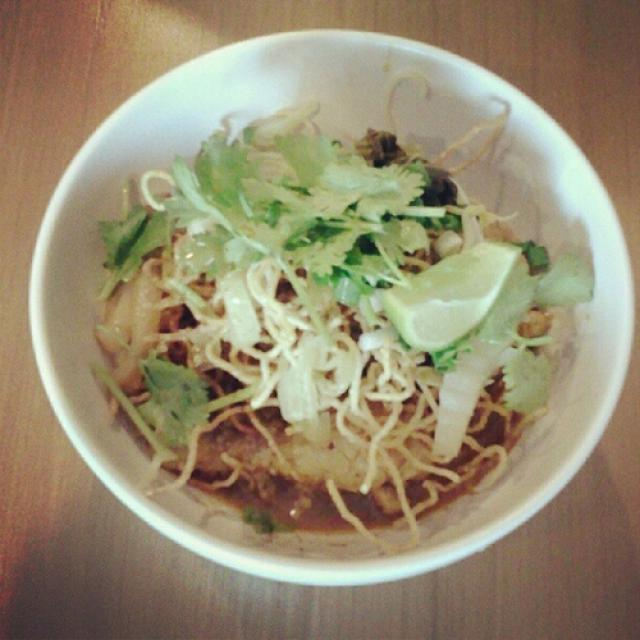面条主食: (25, 21, 616, 564)
